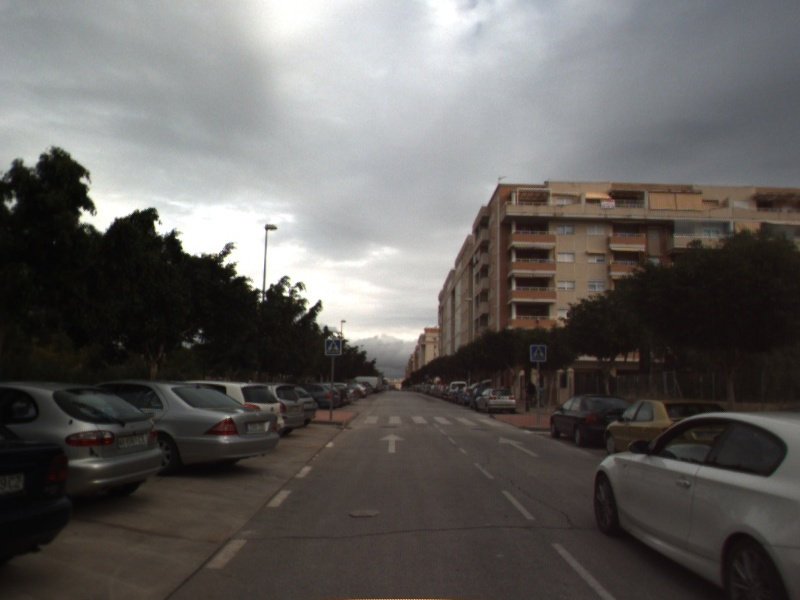STRAIGHT: (496, 434, 540, 458), (377, 431, 407, 455)
